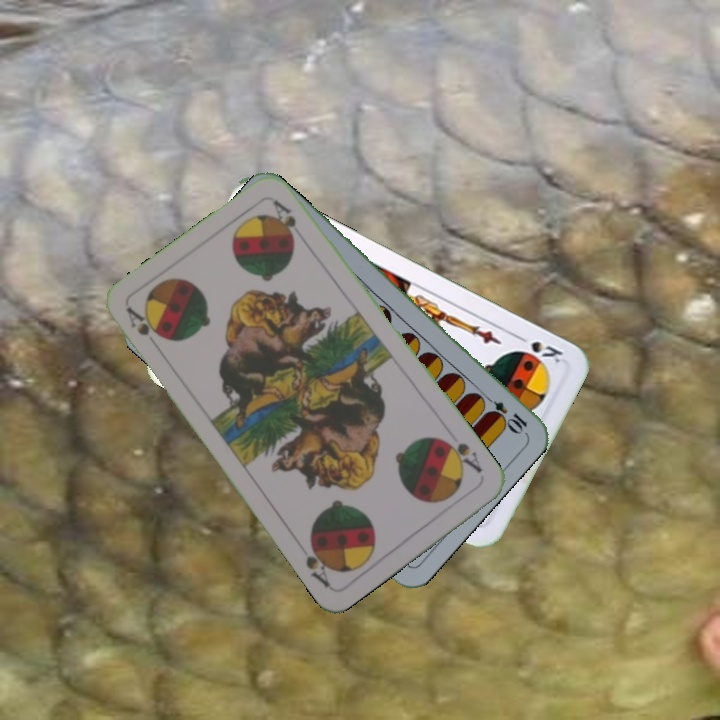E10: (478, 390, 530, 436)
SA: (122, 303, 167, 354), (437, 434, 485, 476)
SK: (511, 330, 566, 366)
